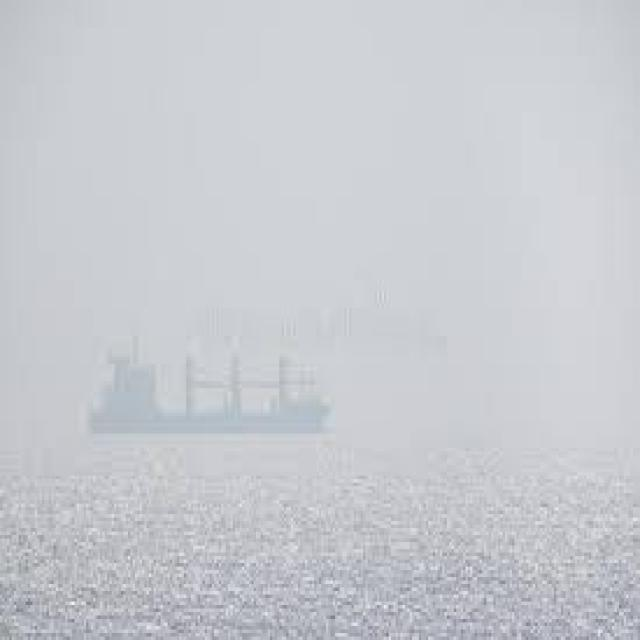cargoship: (85, 334, 333, 438)
